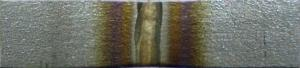soldas: (95, 1, 210, 67)
